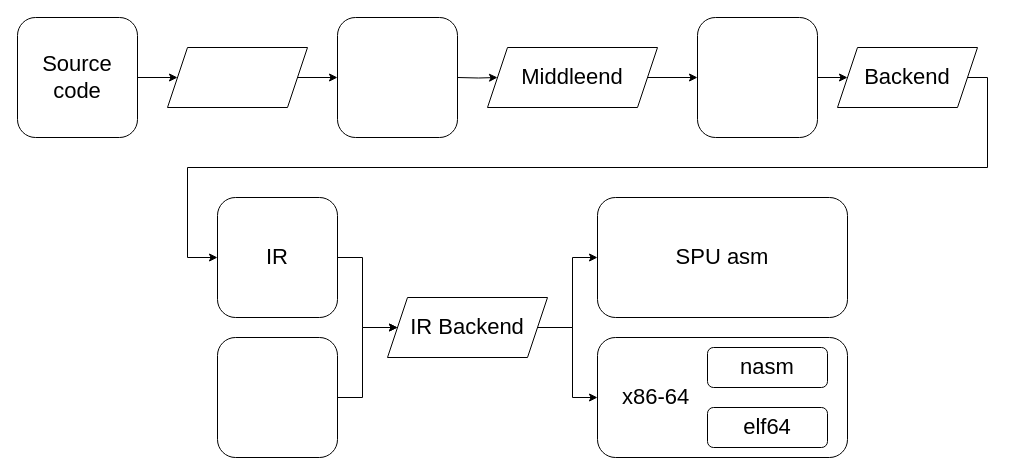
Image size: 1013x475. Some labels were removed from this diagram. The centre of each missing label's shape, as x and y in pixels:
"AST" belongs at (397,77).
"Frontend" belongs at (237,77).
"IOLib.o" belongs at (277,397).
"Optimised AST" belongs at (757,77).
